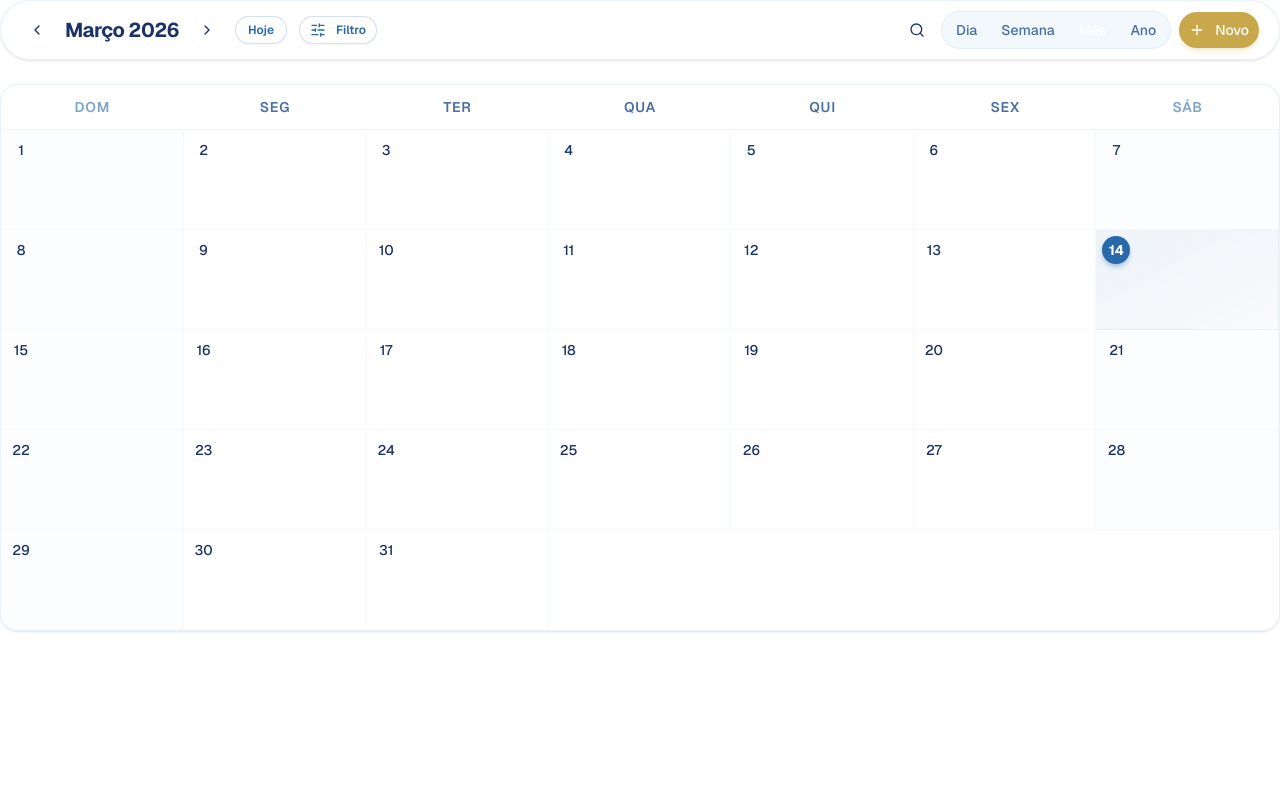
Test: CalendarGrid › closes filter modal when clicking the X button
Click the button "Filtro".
click(338, 30)  # box x1=299 y1=16 x2=377 y2=44
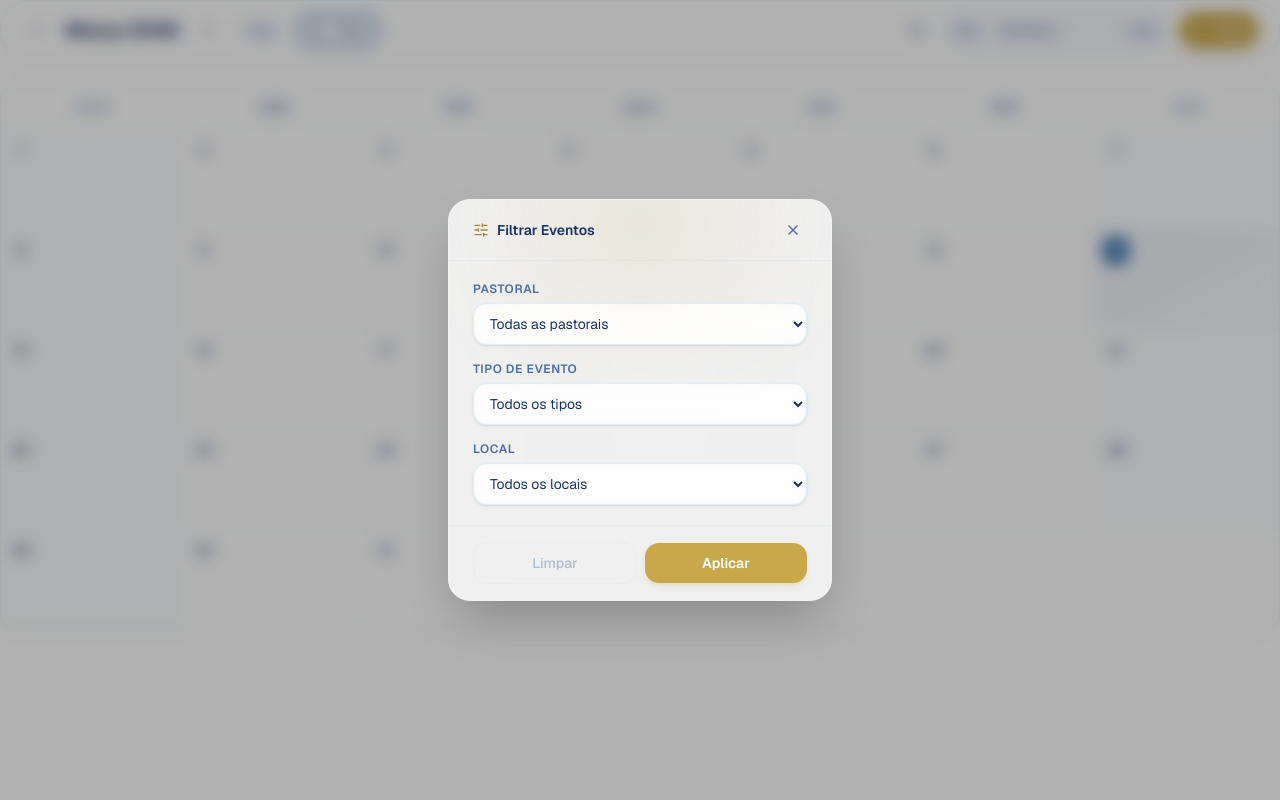
Check: the heading "Filtrar Eventos" is shown, box x1=497 y1=220 x2=595 y2=240
Check: the 1st button is shown
Click the 1st button.
click(793, 230)  # box x1=779 y1=216 x2=807 y2=244
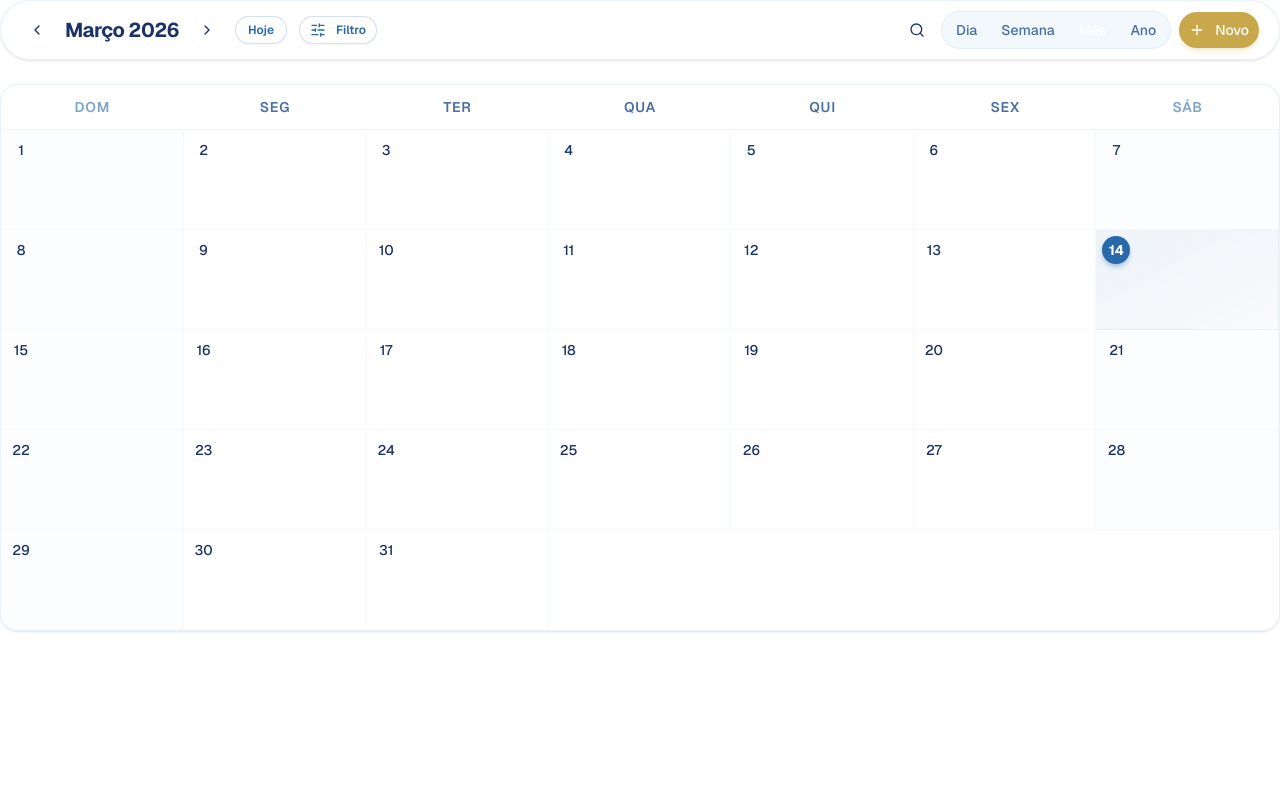
Check: the heading "Filtrar Eventos" is gone
